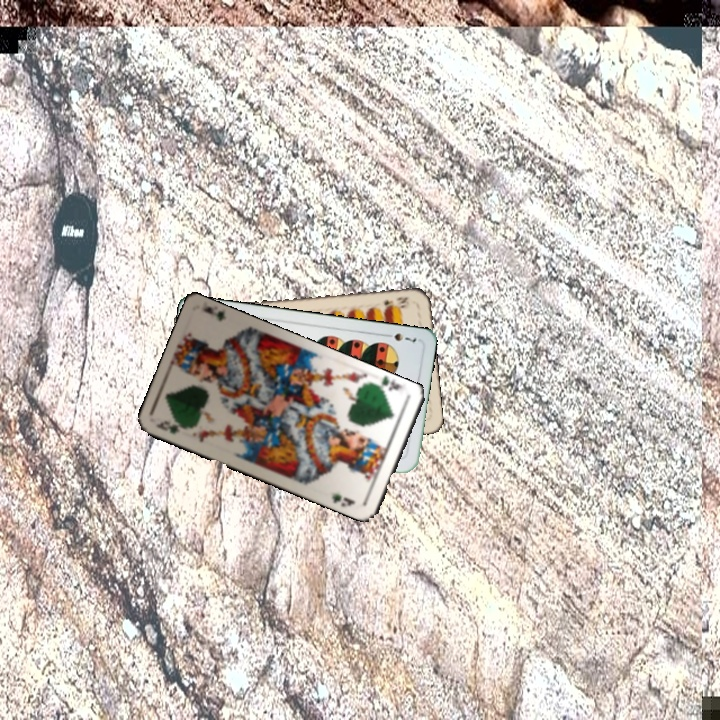E10: (380, 293, 412, 312)
GK: (152, 417, 191, 437), (371, 373, 405, 395)
S7: (380, 329, 419, 345)
